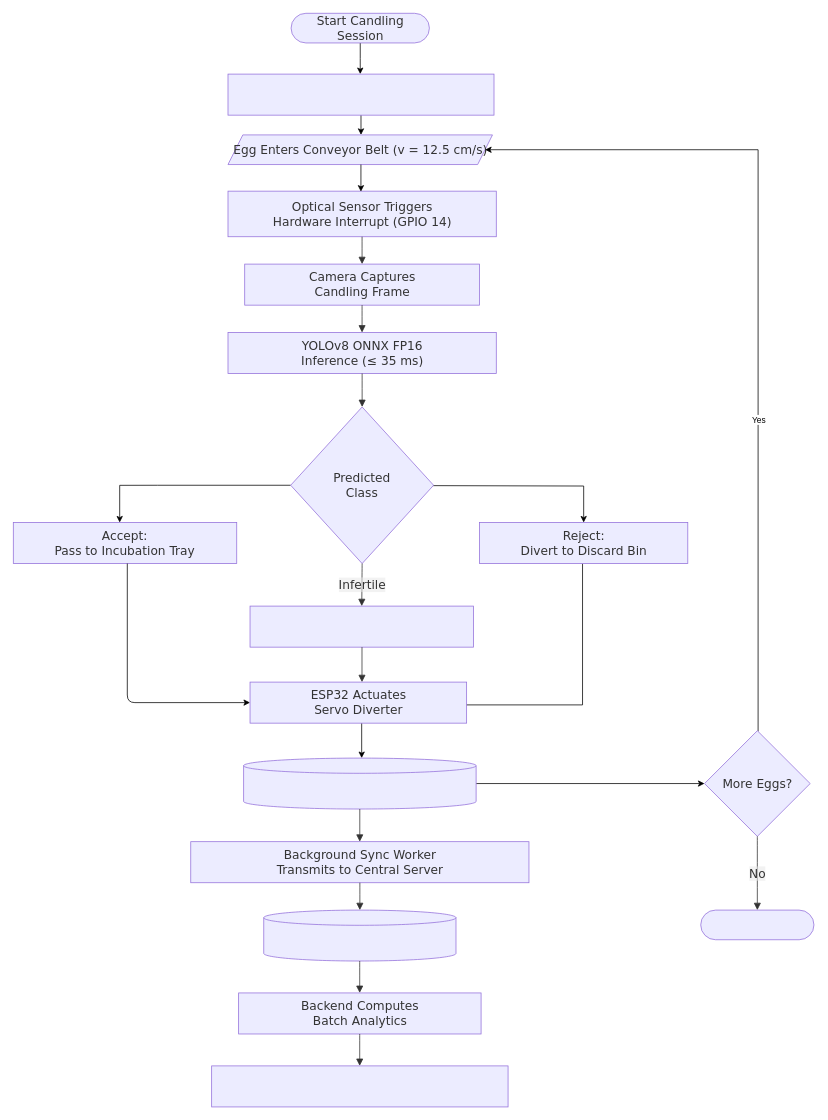
Image size: 828x1120. Some labels were removed from this diagram. The shapes that lost their labels are listed below. From the top down, each one's box as (x1, y1, x2, y2) in pixels, then its label:
(227, 73, 494, 115): Operator Assigns Batch ID and Egg Breed
(249, 605, 473, 647): Reject: Divert to Penoy Salvage
(243, 757, 476, 809): Store Scan Result in Local SQLite (WAL)
(263, 909, 456, 961): PostgreSQL 16 Central Database
(700, 909, 814, 940): Session Complete
(211, 1065, 508, 1107): Dashboard Displays Real-Time Hatchery Data
